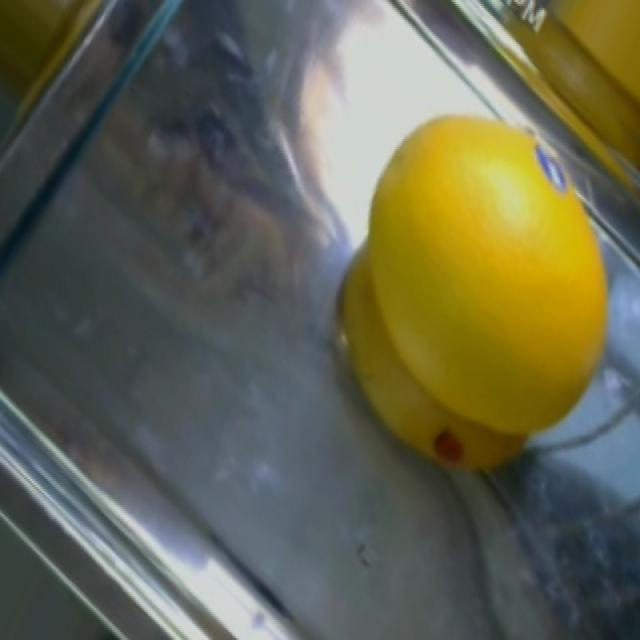Fruit: (319, 83, 632, 491)
